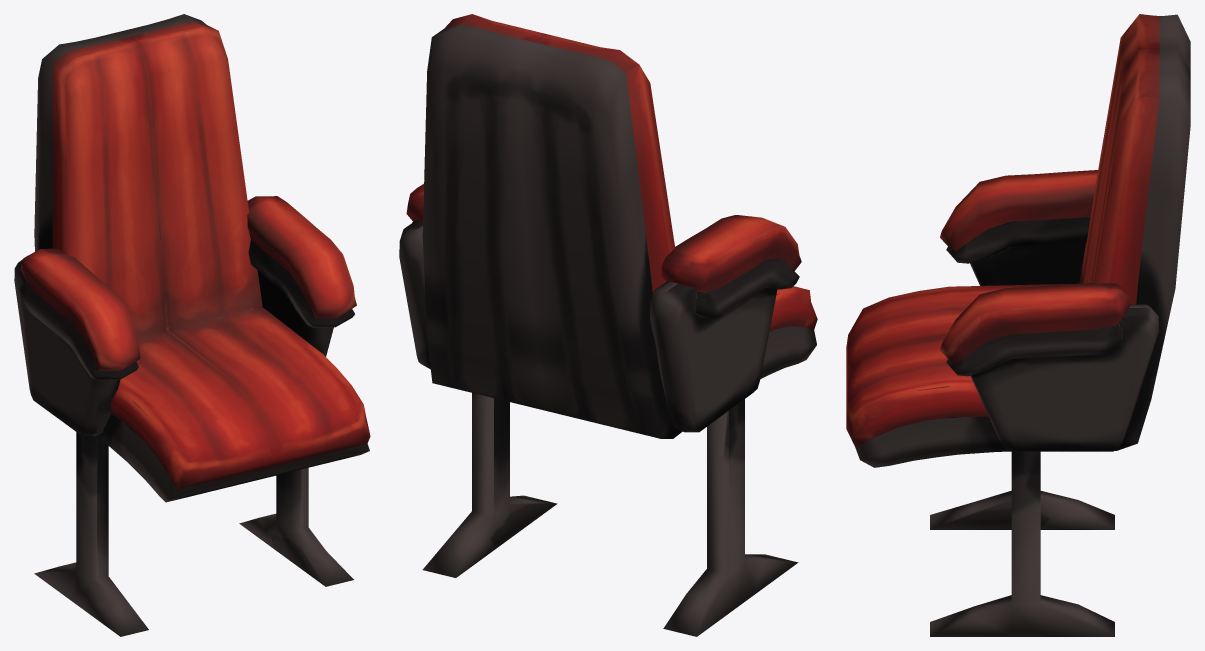
Rendered from silla.fbx.
3 views of the same model, side by side, from view 1: azimuth 30°, elevation 25°; view 2: azimuth 150°, elevation 25°; view 3: azimuth 270°, elevation 25° (orthographic). The views are drawn at different scales.
Visible parts, largest first — view 1: Cube.001; view 2: Cube.001; view 3: Cube.001.
Boxes of the visible parts, x1,y1,x2,y2 form: Cube.001: (14, 14, 370, 636); Cube.001: (399, 14, 817, 636); Cube.001: (846, 14, 1190, 636).
Size of the model in its own units: 43.91 by 79.52 by 46.93.
